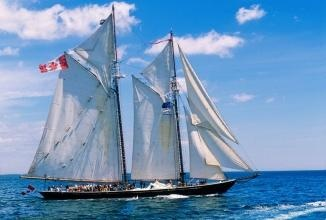fanchuan: (20, 2, 259, 202)
